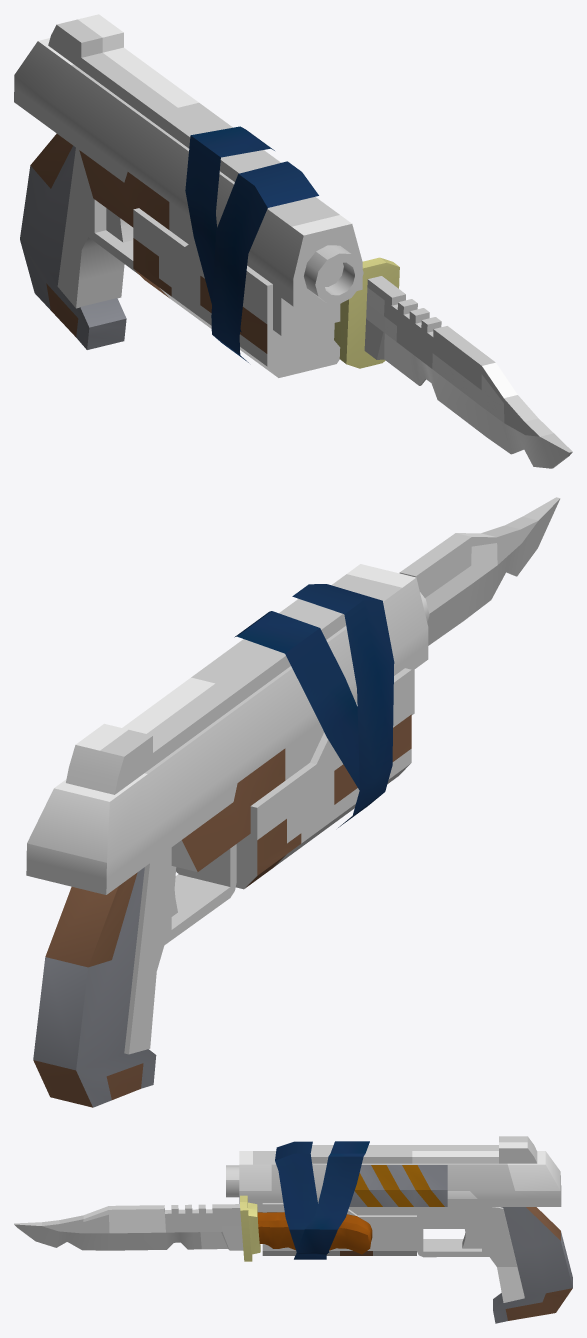
File: Pistol.glb
3 views of the same model, one above another, from view 1: azimuth 30°, elevation 25°; view 2: azimuth 150°, elevation 25°; view 3: azimuth 270°, elevation 25° (orthographic). The views are drawn at different scales.
Parts seen in each view (by area): view 1: Pistol; view 2: Pistol; view 3: Pistol.
Boxes of the visible parts, box(x1,y1,x2,y2) form: Pistol: box(14, 14, 572, 468); Pistol: box(26, 497, 560, 1107); Pistol: box(14, 1136, 572, 1323).
Size of the model in its own units: 0.1412 by 0.3397 by 0.9764.
